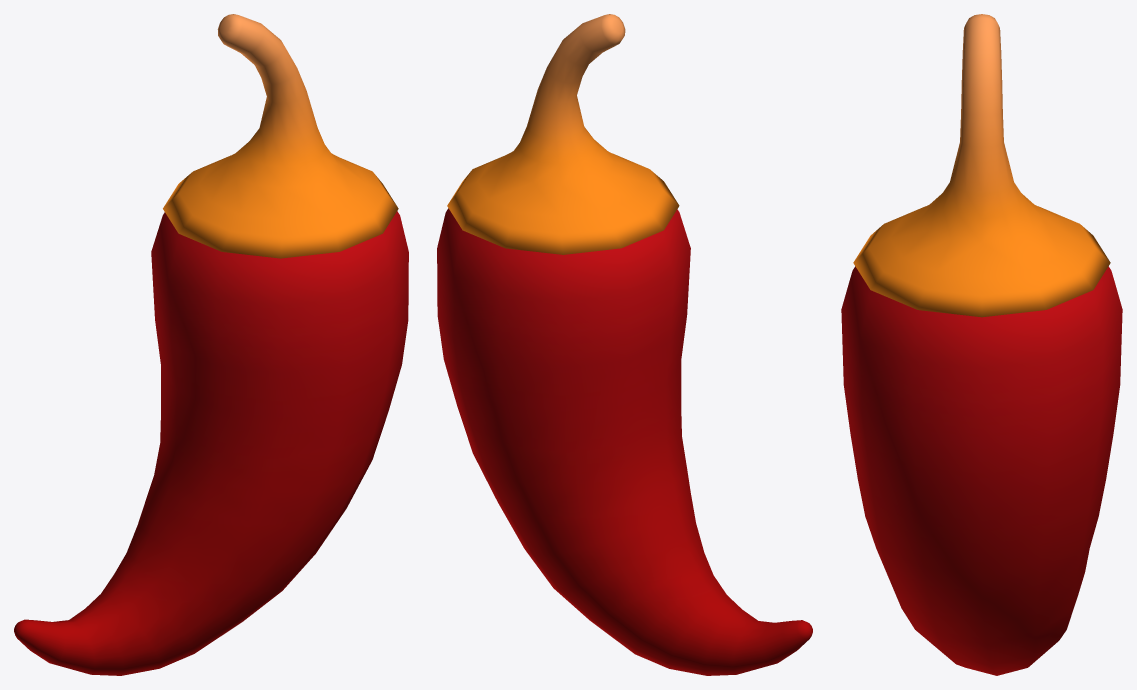
File: Hot_peper_red.fbx
The picture shows the model from 3 angles, left to right: view 1: azimuth 30°, elevation 25°; view 2: azimuth 150°, elevation 25°; view 3: azimuth 270°, elevation 25°; orthographic projection. The views are drawn at different scales.
Parts seen in each view (by area): view 1: Hot_peper_red; view 2: Hot_peper_red; view 3: Hot_peper_red.
Part boxes in pixels (<box>): Hot_peper_red: <box>14,14,408,675</box>; Hot_peper_red: <box>437,14,812,675</box>; Hot_peper_red: <box>841,14,1122,675</box>.
Size of the model in its own units: 80.14 by 48.38 by 132.
